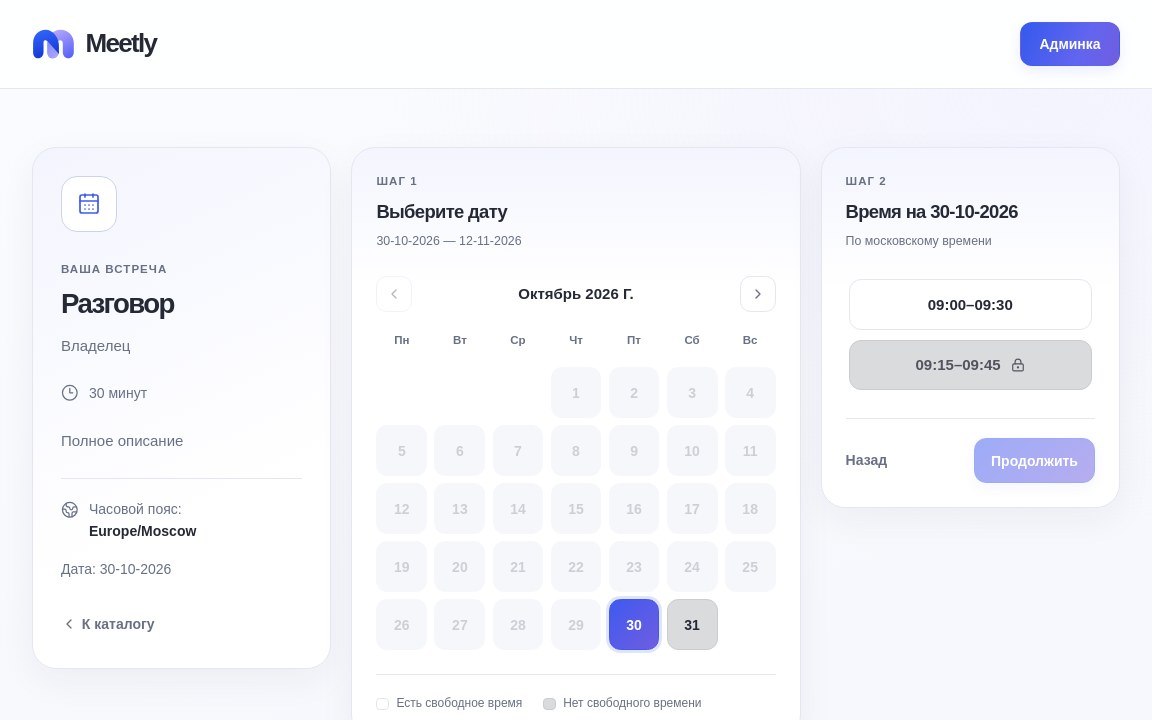
Scenario: calendar uses server dates, explicit selection and text busy status
Expected: the button named "09:15–09:45 — Занято" is disabled, [849,340,1092,390]
Expected: the button "Продолжить" is disabled, [974,438,1095,483]
Click the button named "09:00–09:30 — Свободно": (970, 304) [849,279,1092,330]
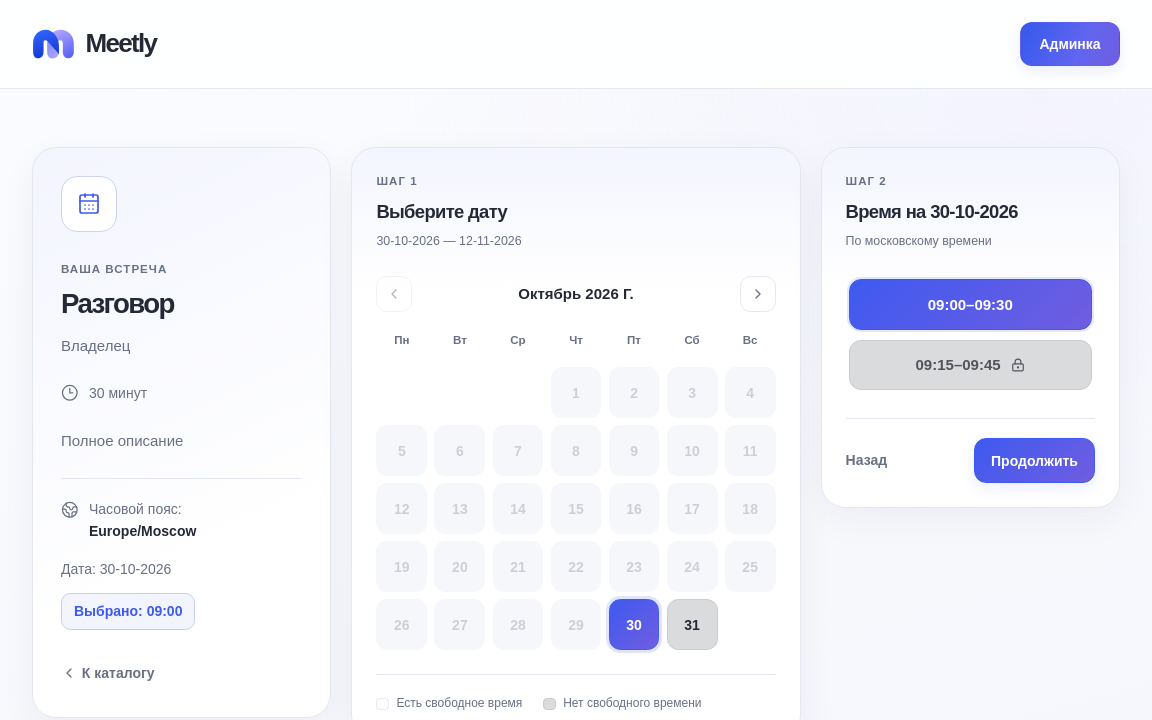
Expected: the text "Europe/Moscow" is shown, [89,520,196,542]
Now the button "Продолжить" is enabled, box [974,438,1095,483]
